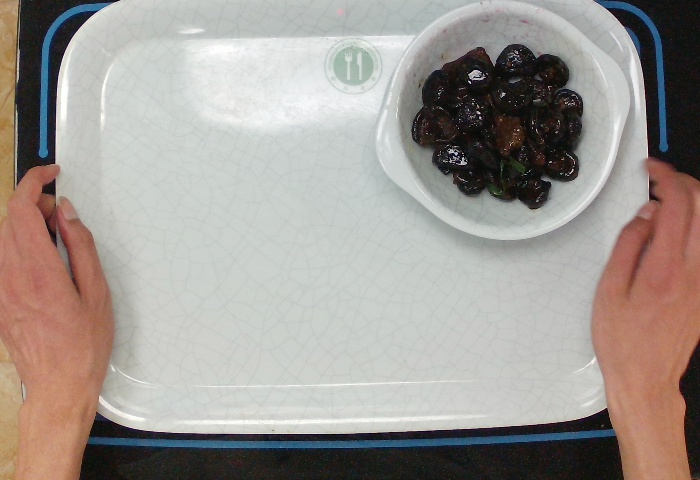JYsf-Shuang_Er_Wan: (371, 2, 635, 244)
